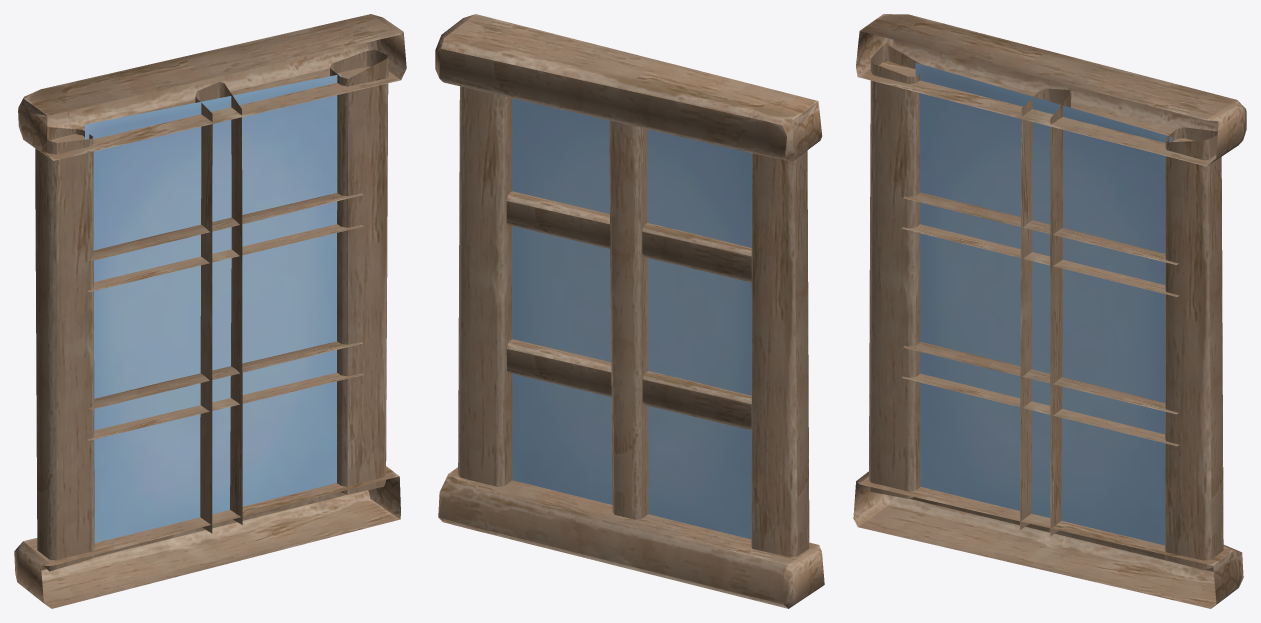
Rendered from Window_01.fbx.
The picture shows the model from 3 angles, left to right: view 1: azimuth 30°, elevation 25°; view 2: azimuth 150°, elevation 25°; view 3: azimuth 330°, elevation 25°; orthographic projection.
Parts seen in each view (by area): view 1: Window_01; view 2: Window_01; view 3: Window_01.
Boxes of the visible parts, bbox=[...] form: Window_01: bbox=[14, 14, 406, 608]; Window_01: bbox=[435, 14, 824, 608]; Window_01: bbox=[853, 14, 1246, 608].
Bounding box in the file's own units: 0.7743 × 1.01 × 0.1315.
